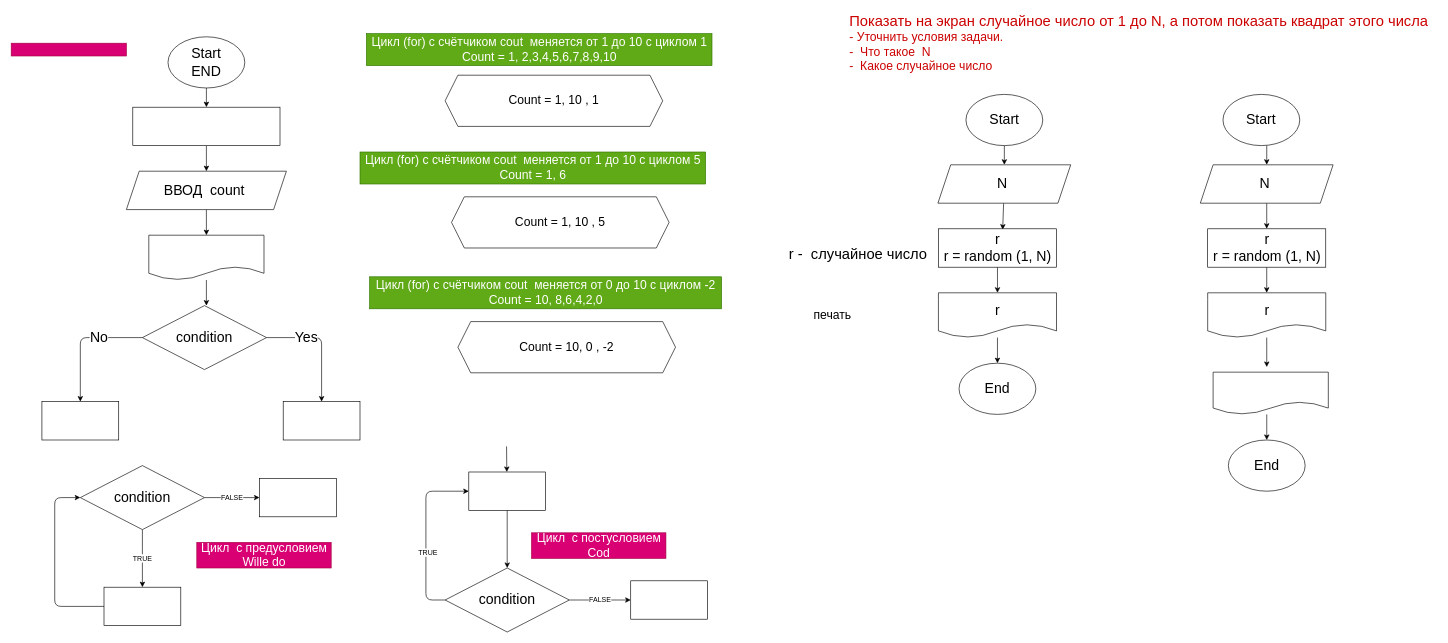
This 1448x643 diagram has some shape labels left out. Each missing label, with the centre of its shape:
"count = 0 res = 1 * sqrt (2)" goes at [206,126].
"r *r" goes at [1270,393].
"Блок ветвления" goes at [68,49].
"ВЫВОД res" goes at [206,257].
